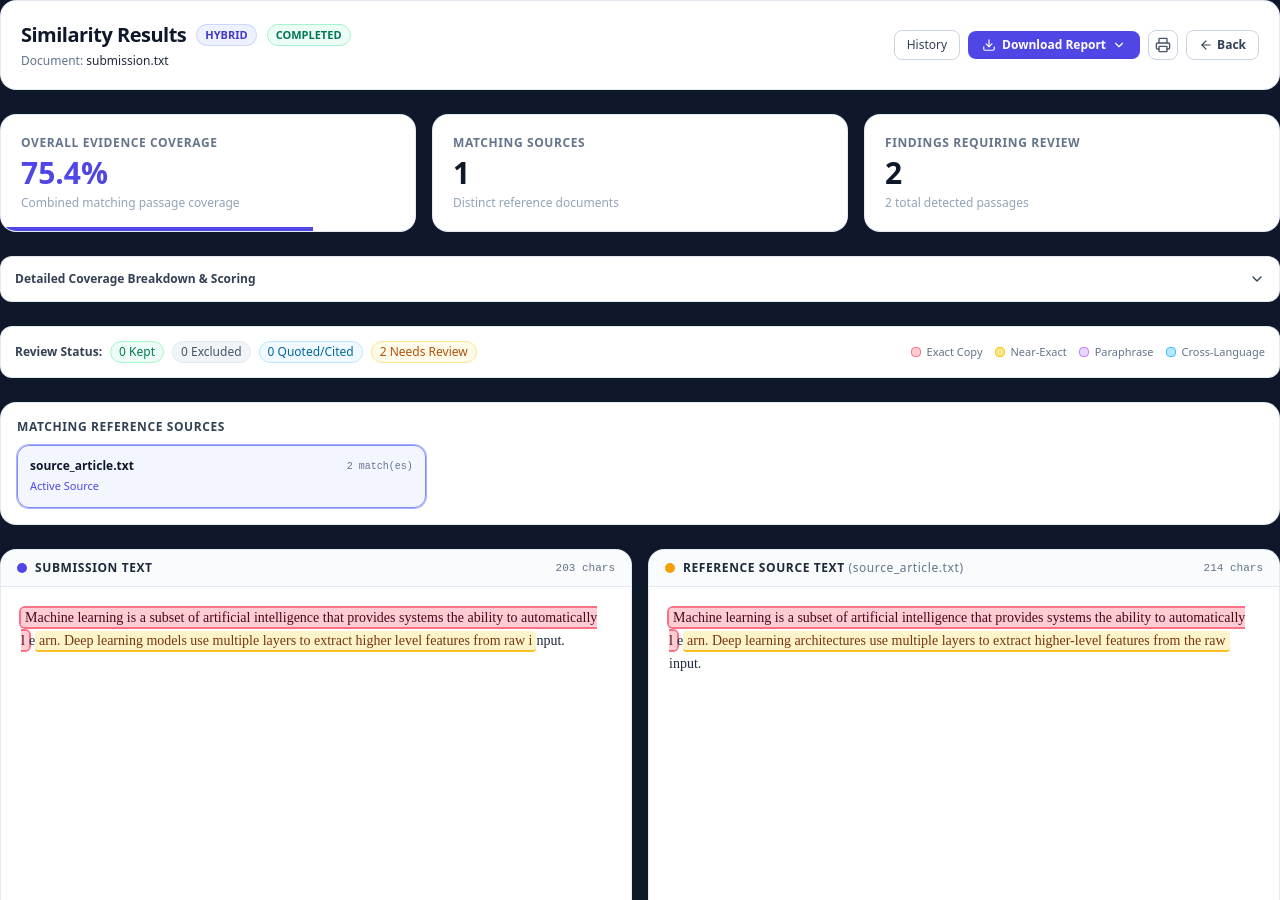
ResultsDashboardPage Component › renders reviewer decision actions and report download options
Expected: the text "2 Needs Review" is shown, left=371, top=341, right=477, bottom=363
Expected: the text "Download Report" is shown, left=1002, top=37, right=1106, bottom=53
Note: Toggle download report menu
Click the button "Download Report": (1054, 45) left=968, top=31, right=1140, bottom=59
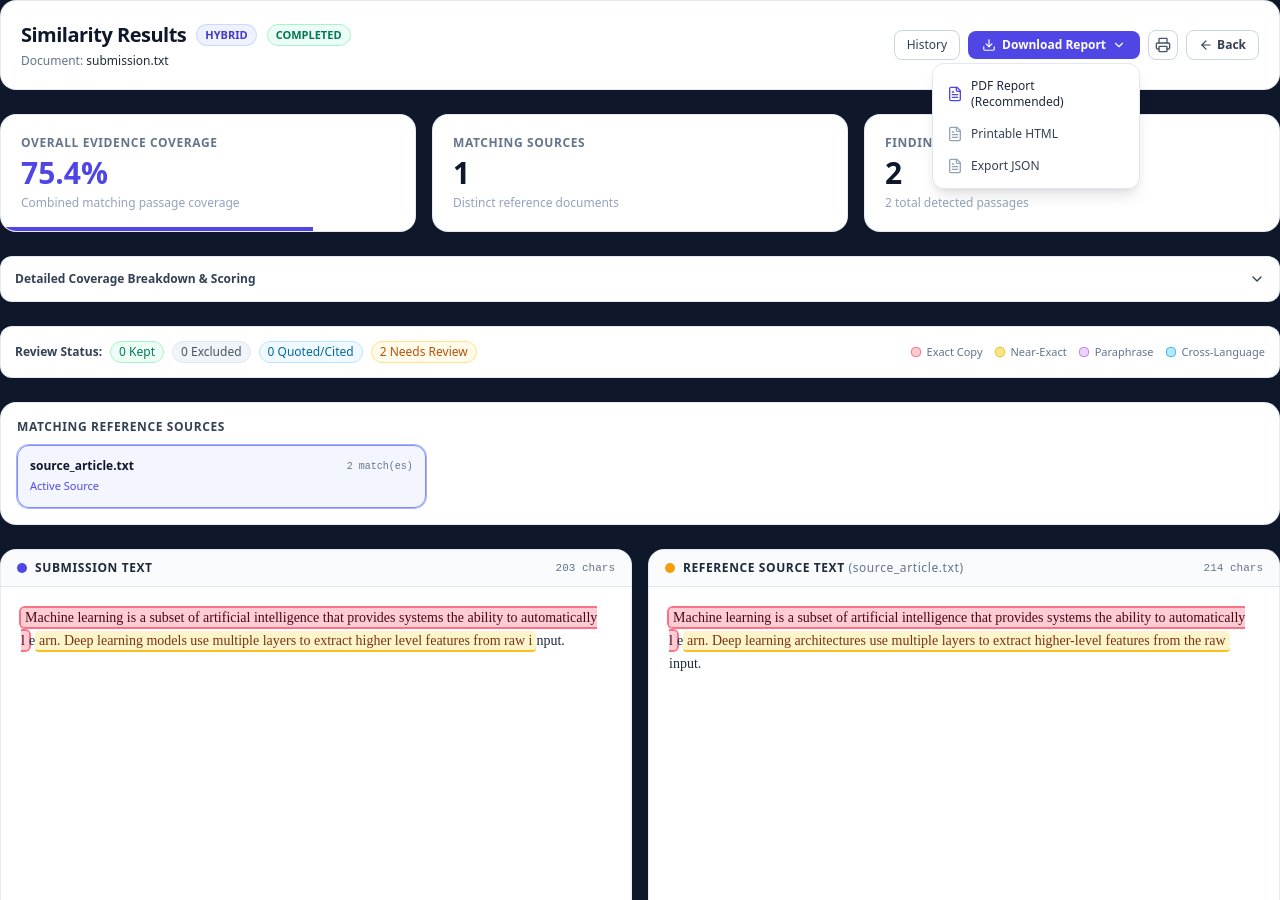
Result: the text "PDF Report (Recommended)" is shown at left=971, top=77, right=1064, bottom=110
Result: the text "Printable HTML" is shown at left=971, top=126, right=1058, bottom=142
Result: the text "Export JSON" is shown at left=971, top=158, right=1040, bottom=174
